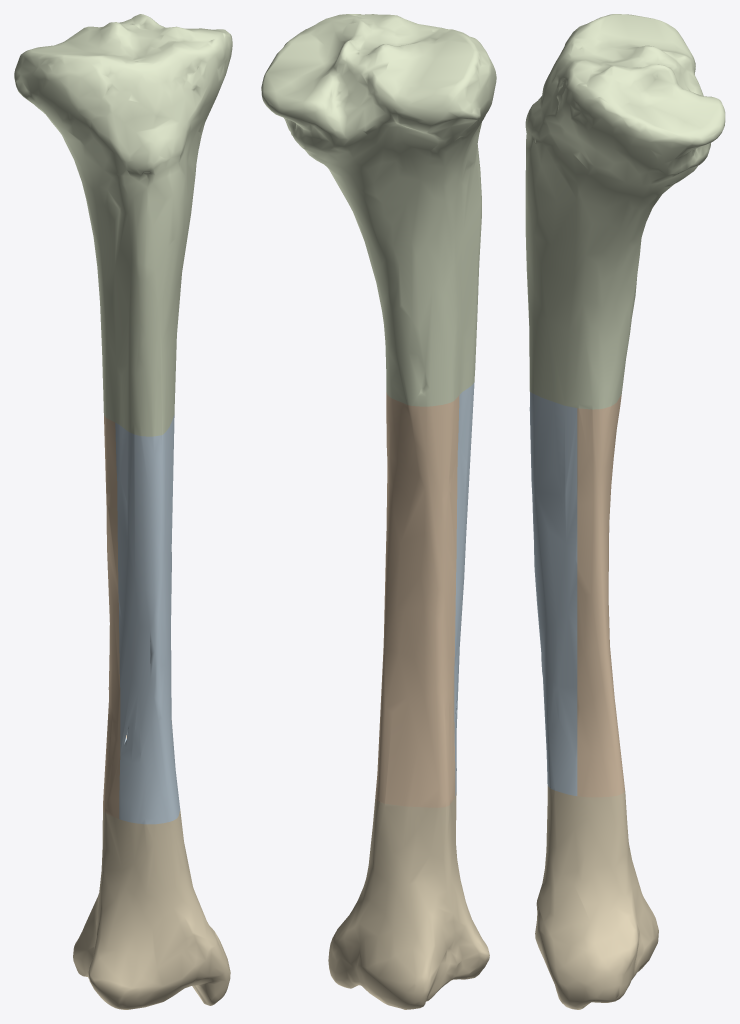
Rendered from tibia_magnetic_30.glb.
The picture shows the model from 3 angles, left to right: view 1: azimuth 30°, elevation 25°; view 2: azimuth 150°, elevation 25°; view 3: azimuth 270°, elevation 25°; orthographic projection. The views are drawn at different scales.
Parts seen in each view (by area): view 1: 04_Верхняя_секция, 02_Средняя_половина_A, 01_Нижняя_секция, 03_Средняя_половина_B; view 2: 04_Верхняя_секция, 03_Средняя_половина_B, 01_Нижняя_секция, 02_Средняя_половина_A; view 3: 04_Верхняя_секция, 01_Нижняя_секция, 02_Средняя_половина_A, 03_Средняя_половина_B.
Boxes of the visible parts, x1,y1,x2,y2 form: 04_Верхняя_секция: (14, 14, 232, 436); 02_Средняя_половина_A: (115, 415, 180, 824); 01_Нижняя_секция: (73, 809, 230, 1009); 03_Средняя_половина_B: (103, 412, 171, 818); 04_Верхняя_секция: (261, 14, 496, 406); 03_Средняя_половина_B: (375, 392, 459, 807); 01_Нижняя_секция: (328, 792, 489, 1009); 02_Средняя_половина_A: (454, 382, 474, 795); 04_Верхняя_секция: (525, 14, 725, 409); 01_Нижняя_секция: (535, 785, 658, 1009); 02_Средняя_половина_A: (529, 392, 577, 795); 03_Средняя_половина_B: (577, 395, 624, 797).
Bounding box in the file's own units: 0.0879 × 0.4 × 0.0774.
